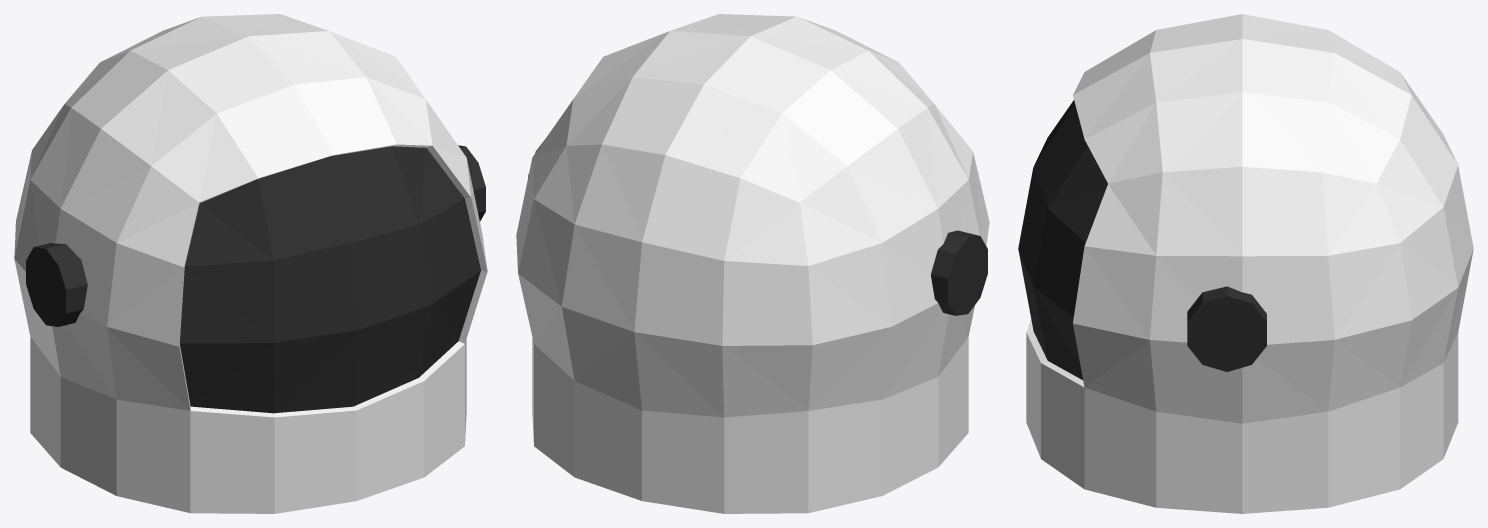
Rendered from helmet.fbx.
3 renders of one model, left to right at view 1: azimuth 30°, elevation 25°; view 2: azimuth 150°, elevation 25°; view 3: azimuth 270°, elevation 25°, orthographic.
Visible parts, largest first — view 1: Helmet; view 2: Helmet; view 3: Helmet.
Boxes of the visible parts, x1=… form: Helmet: x1=14, y1=14, x2=487, y2=513; Helmet: x1=516, y1=14, x2=989, y2=513; Helmet: x1=1018, y1=14, x2=1473, y2=513.
Size of the model in its own units: 57 by 49.97 by 53.76.
